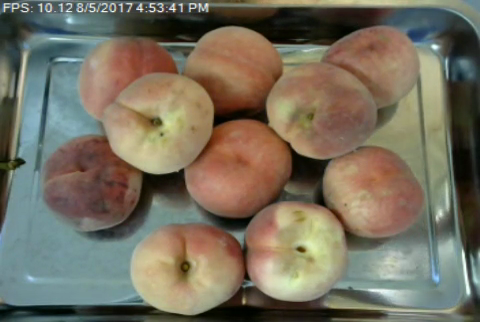Peach: (97, 71, 216, 172), (264, 62, 379, 162), (242, 199, 350, 303), (183, 118, 293, 218), (128, 223, 245, 314), (40, 133, 141, 229), (321, 145, 425, 238), (181, 26, 285, 112), (79, 36, 177, 120), (320, 27, 419, 105)
